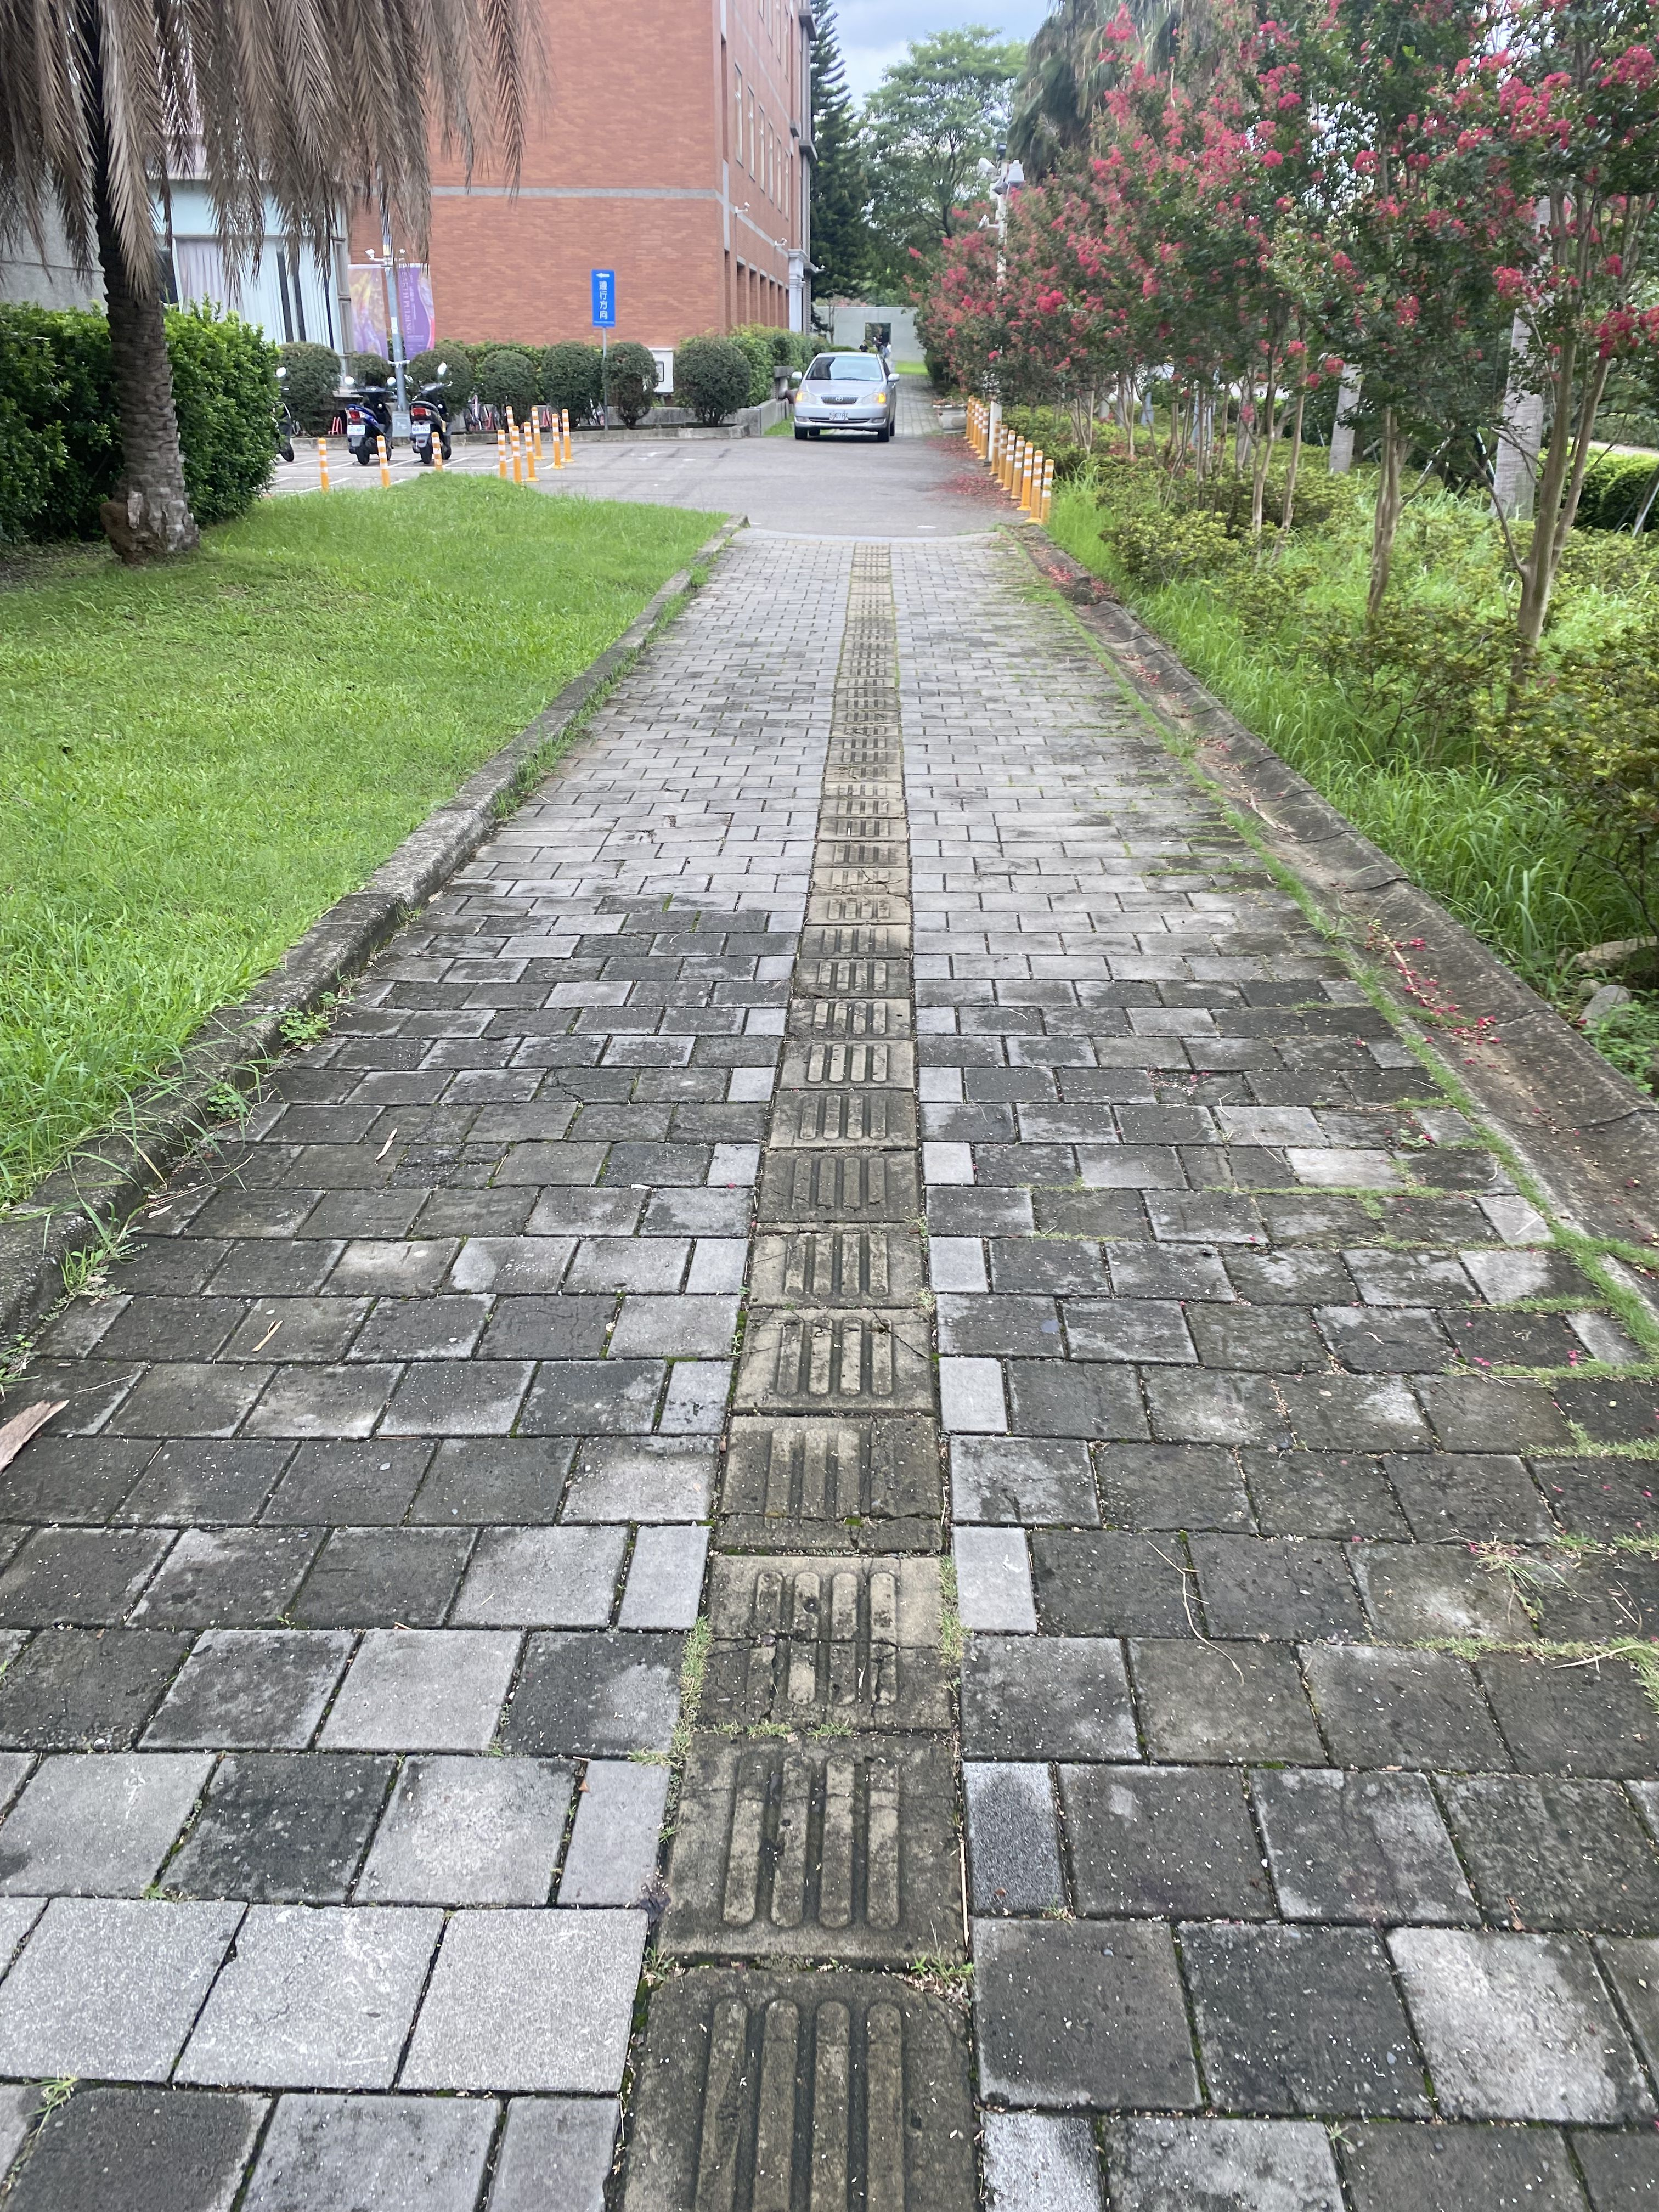0: (5, 754, 1659, 2212)
sidewalk: (469, 521, 1363, 1552)
